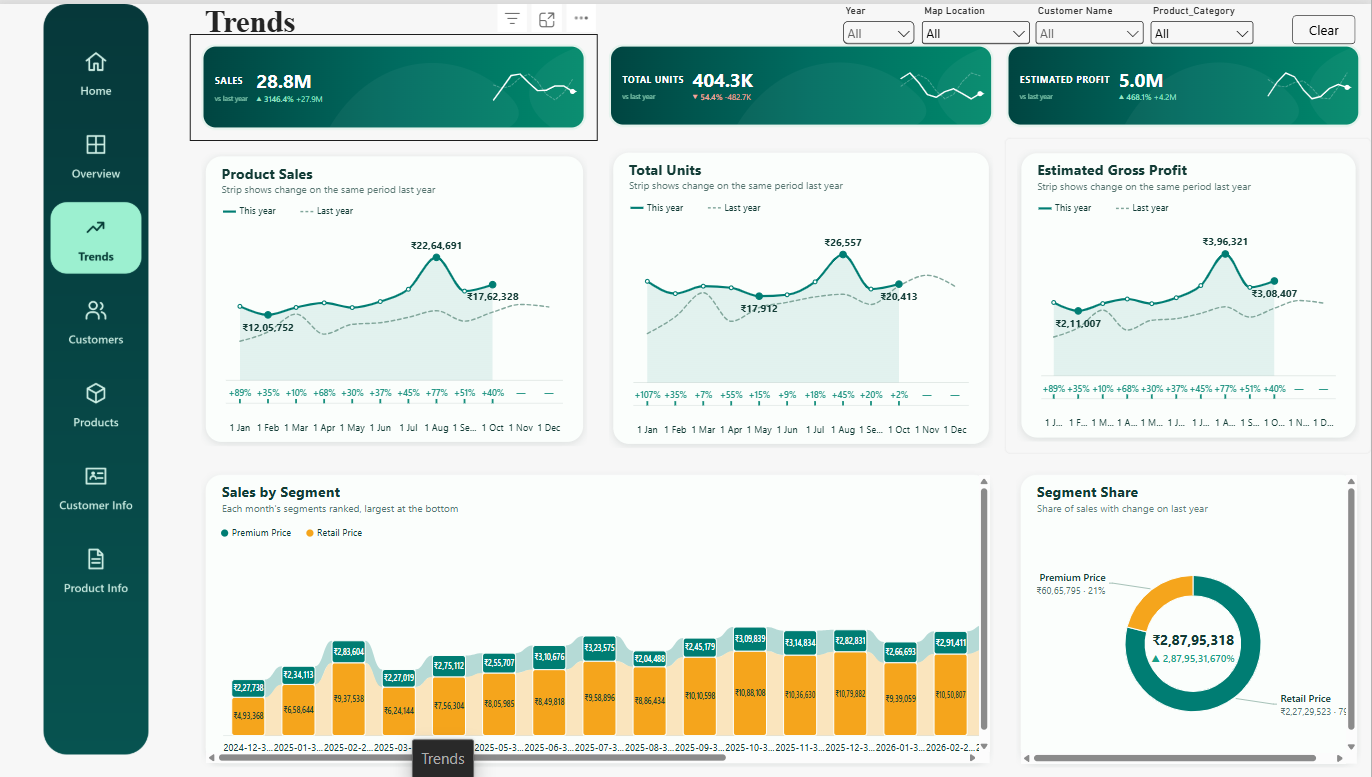

What the dashboard file says about the page in this screenshot:
{"tool":"powerbi","page":{"name":"Trends","canvas":[1920,1080],"ordinal":2},"visuals":[{"type":"image","box":[9.2,0,261.4,1047.2],"z":0},{"type":"LineChartPercentStripB582D7C901AF","fields":{"value":["Order_Items.Product Sales"],"lastYear":["Order_Items.Product Sales LY"],"period":["Date.Month Start"]},"box":[269.6,191.4,570.2,440.5],"z":1000},{"type":"LineChartPercentStripB582D7C901AF","fields":{"period":["Date.Month Start"],"value":["Order_Items.Total Units"],"lastYear":["Order_Items.Total Units LY"]},"box":[839.8,187.3,568.1,448.7],"z":2000},{"type":"LineChartPercentStripB582D7C901AF","fields":{"period":["Date.Month Start"],"value":["Order_Items.Estimated Gross Profit"],"lastYear":["Orders.Estimated Gross Profit LY"]},"box":[1407.9,187.3,512.5,440.5],"z":3000},{"type":"RibbonChartB746E203A95C","fields":{"period":["Date.Month Start"],"segment":["Order_Items.Customer Type"],"value":["Order_Items.Product Sales"]},"box":[270.6,636.8,1137.4,443.6],"z":4000},{"type":"DonutChartE947C132A60B","fields":{"category":["Order_Items.Customer Type"],"value":["Order_Items.Product Sales"],"lastYear":["Bengaluru Store Zones.Segment Sales Share %"]},"box":[1407.9,636,512.5,444.6],"z":5000},{"type":"KPICard1234567890","fields":{"measure":["Order_Items.Product Sales"],"lastYear":["Order_Items.Product Sales LY"],"trendValues":["Order_Items.Product Sales YoY %"]},"box":[270.6,42.3,568.7,149.1],"z":6000},{"type":"KPICard1234567890","fields":{"measure":["Order_Items.Total Units"],"lastYear":["Order_Items.Total Units LY"]},"box":[839.3,42.3,568.7,145.4],"z":7000},{"type":"KPICard1234567890","fields":{"measure":["Order_Items.Estimated Gross Profit"],"lastYear":["Orders.Estimated Gross Profit LY"]},"box":[1393.3,42.3,526.4,145.4],"z":8000},{"type":"slicer","fields":{"Values":["Order_Items.Year"]},"box":[1177.9,0,109,63.8],"z":9000},{"type":"slicer","fields":{"Values":["Bengaluru Store Zones.Map Location"]},"box":[1286.5,0,160.1,62.6],"z":10000},{"type":"slicer","fields":{"Values":["Order_Items.Product_Category"]},"box":[1606.8,0,152.8,86.5],"z":11000},{"type":"slicer","fields":{"Values":["Order_Items.Customer Name"]},"box":[1446.6,0,160.1,62.6],"z":12000},{"type":"textbox","box":[290.8,0,290.8,71.8],"z":13000},{"type":"shape","box":[103.1,165.6,71.8,51.5],"z":14000},{"type":"shape","box":[103.1,406.8,64.4,66.3],"z":15000},{"type":"shape","box":[103.1,627.6,64.4,66.3],"z":16000},{"type":"shape","box":[106.7,524.5,68.1,55.2],"z":17000},{"type":"shape","box":[110.4,743.6,60.7,60.7],"z":18000},{"type":"shape","box":[97.5,62.6,69.9,55.2],"z":19000},{"type":"actionButton","box":[1809.2,16.6,88.3,40.5],"z":20000}]}

Visuals, with their boxes on the page's 1920x1080 design canvas (x1, y1, x2, y2). These are canvas units, not pixel positions in the 1372x777 screenshot, which may show the page scaled, cropped or inside an application window:
image: rect(9, 0, 271, 1047)
LineChartPercentStripB582D7C901AF - Order_Items.Product Sales x Order_Items.Product Sales LY: rect(270, 191, 840, 632)
LineChartPercentStripB582D7C901AF - Date.Month Start x Order_Items.Total Units: rect(840, 187, 1408, 636)
LineChartPercentStripB582D7C901AF - Date.Month Start x Order_Items.Estimated Gross Profit: rect(1408, 187, 1920, 628)
RibbonChartB746E203A95C - Date.Month Start x Order_Items.Customer Type: rect(271, 637, 1408, 1080)
DonutChartE947C132A60B - Order_Items.Customer Type x Order_Items.Product Sales: rect(1408, 636, 1920, 1081)
KPICard1234567890 - Order_Items.Product Sales x Order_Items.Product Sales LY: rect(271, 42, 839, 191)
KPICard1234567890 - Order_Items.Total Units x Order_Items.Total Units LY: rect(839, 42, 1408, 188)
KPICard1234567890 - Order_Items.Estimated Gross Profit x Orders.Estimated Gross Profit LY: rect(1393, 42, 1920, 188)
slicer - Order_Items.Year: rect(1178, 0, 1287, 64)
slicer - Bengaluru Store Zones.Map Location: rect(1286, 0, 1447, 63)
slicer - Order_Items.Product_Category: rect(1607, 0, 1760, 86)
slicer - Order_Items.Customer Name: rect(1447, 0, 1607, 63)
textbox: rect(291, 0, 582, 72)
shape: rect(103, 166, 175, 217)
shape: rect(103, 407, 168, 473)
shape: rect(103, 628, 168, 694)
shape: rect(107, 524, 175, 580)
shape: rect(110, 744, 171, 804)
shape: rect(98, 63, 167, 118)
actionButton: rect(1809, 17, 1898, 57)
